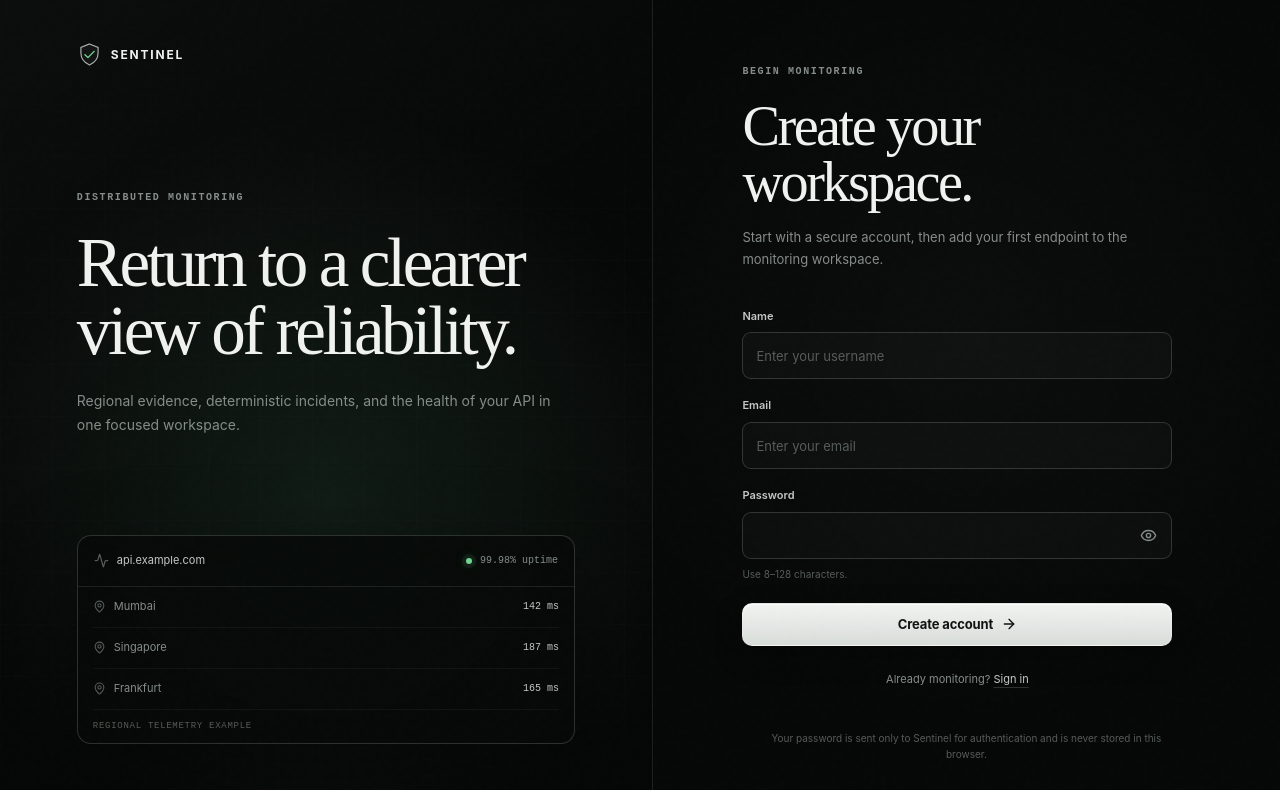
Test: Sentinel authentication routes › shows the duplicate-email error without exposing raw details
Type "Pulkit" into the field labelled "Name" at point(957, 356), box x1=742 y1=332 x2=1172 y2=379
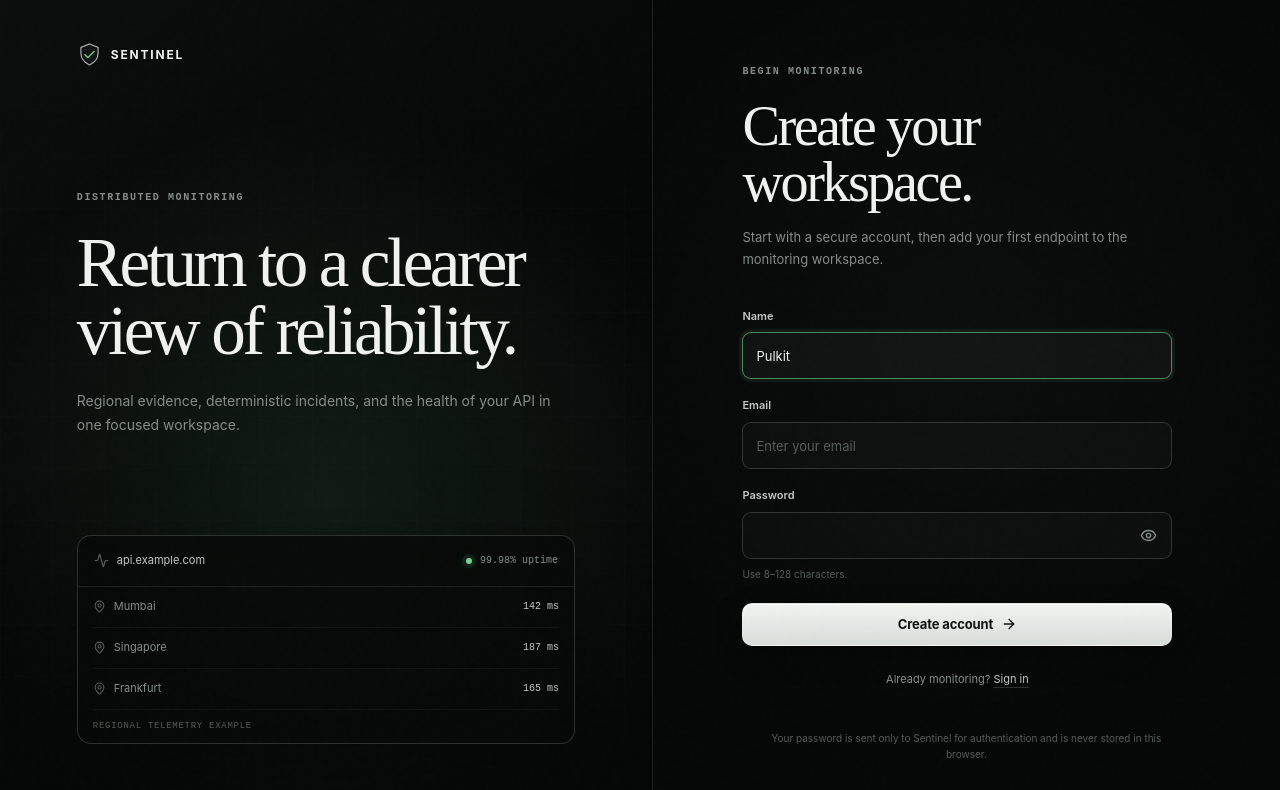
Type "pulkit@example.com" into the field labelled "Email" at point(957, 446), box x1=742 y1=422 x2=1172 y2=469
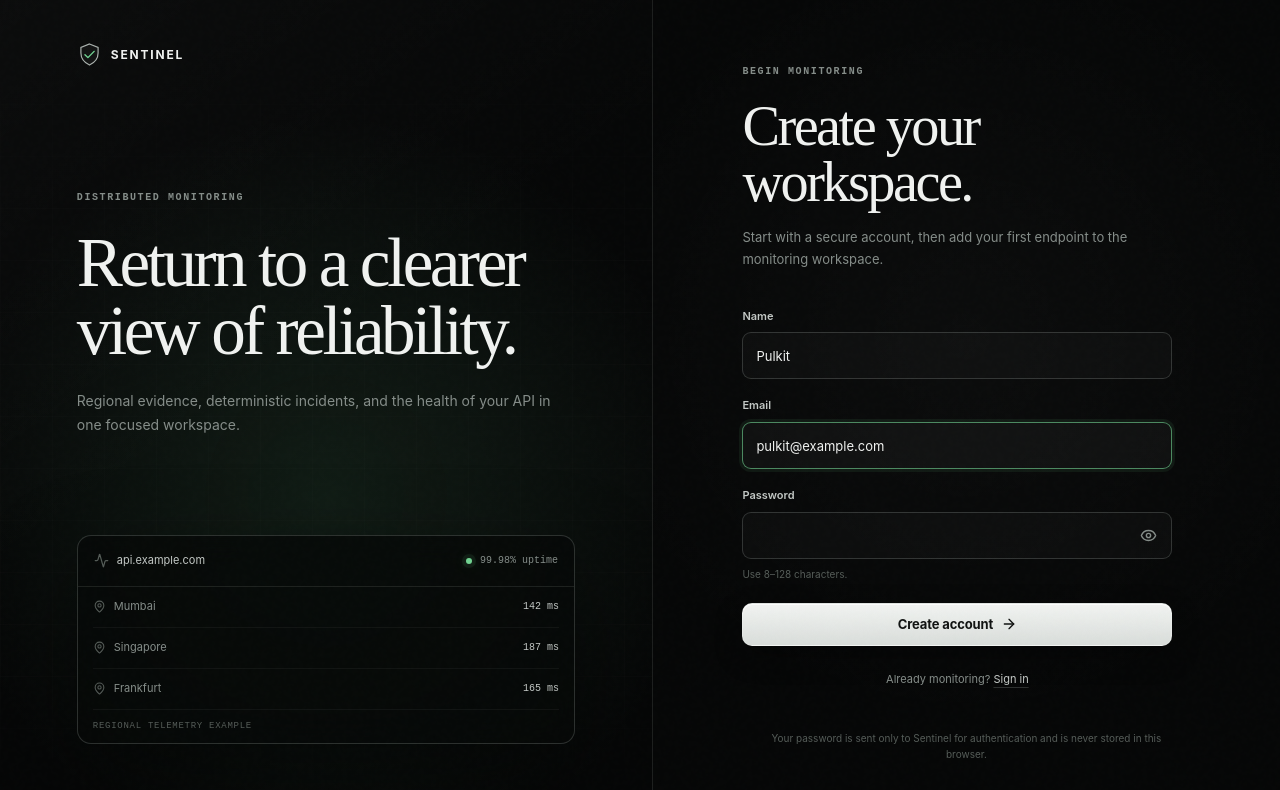
Type "password" into the password field labelled "Password" at point(957, 535), box x1=742 y1=512 x2=1172 y2=559
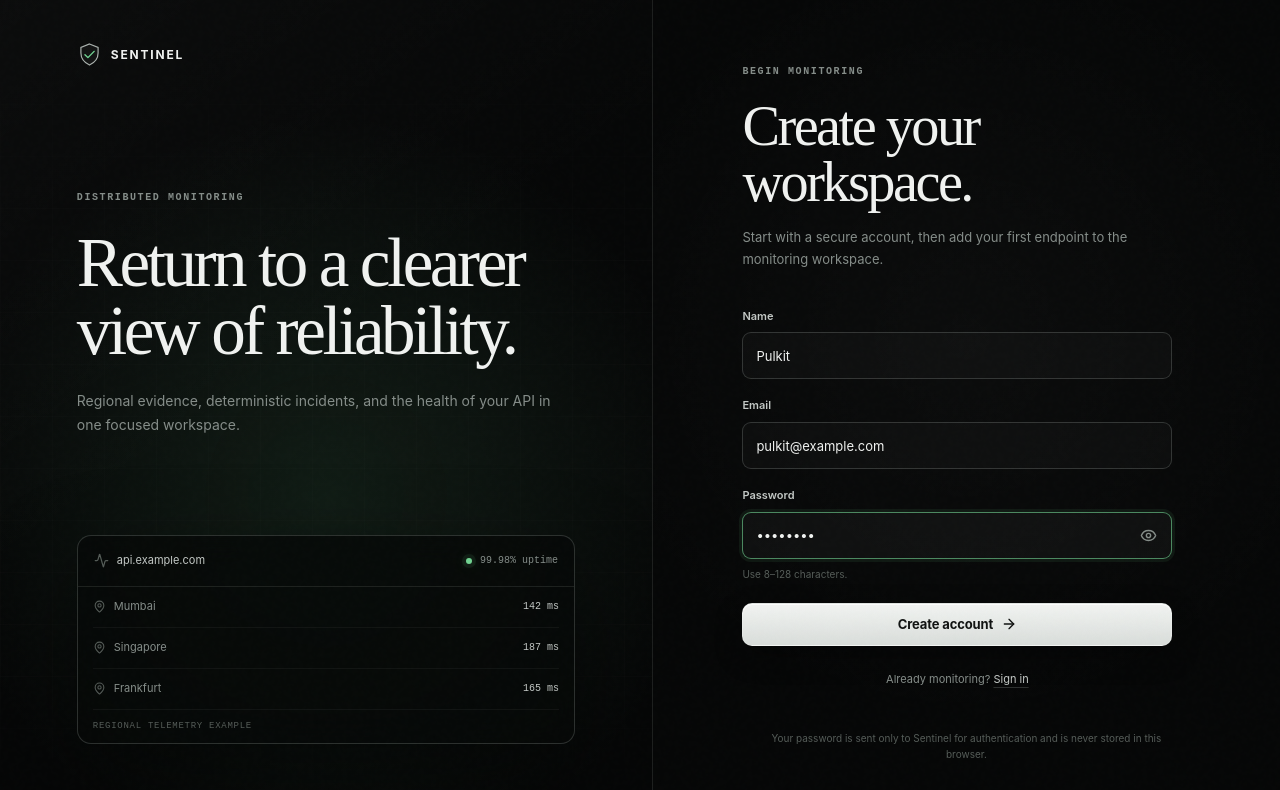
Click the button "Create account" at point(957, 624), box x1=742 y1=603 x2=1172 y2=646
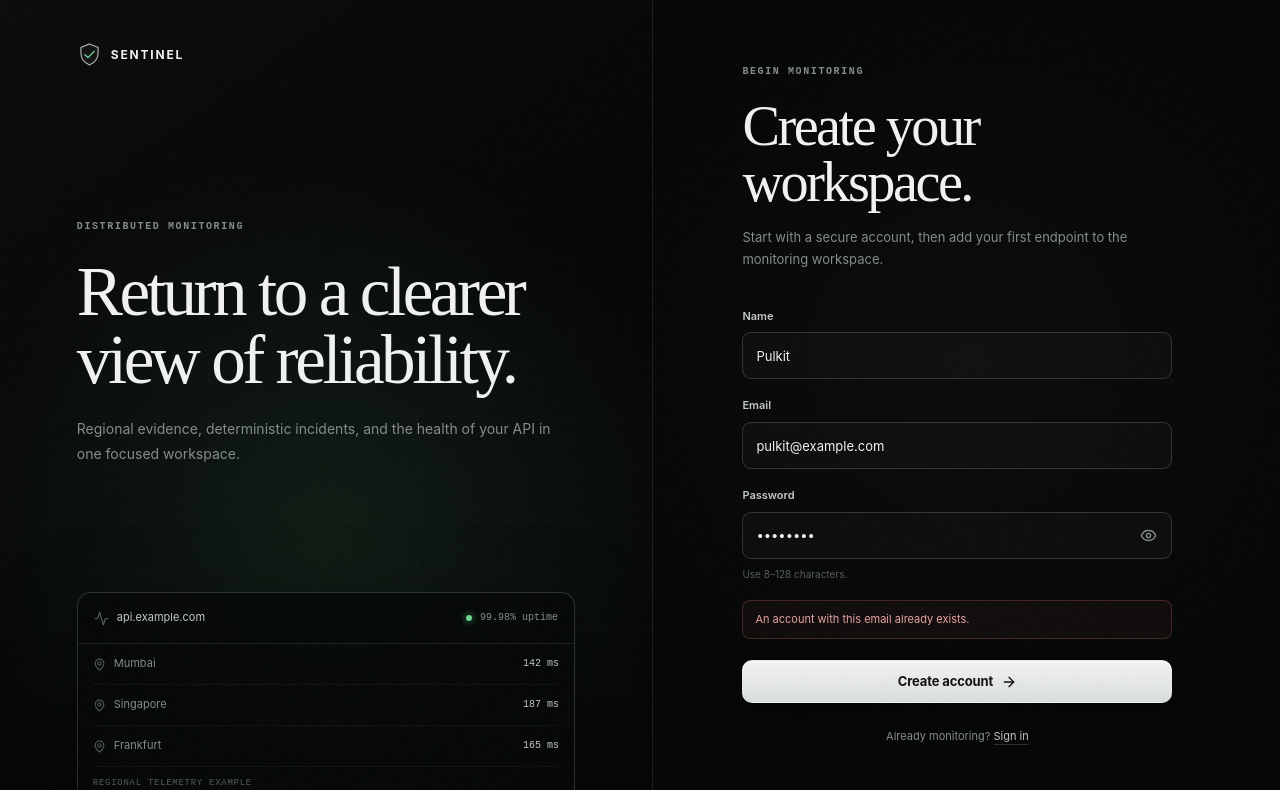
Now the message reads "An account with this email already exists.", box x1=755 y1=612 x2=970 y2=626
